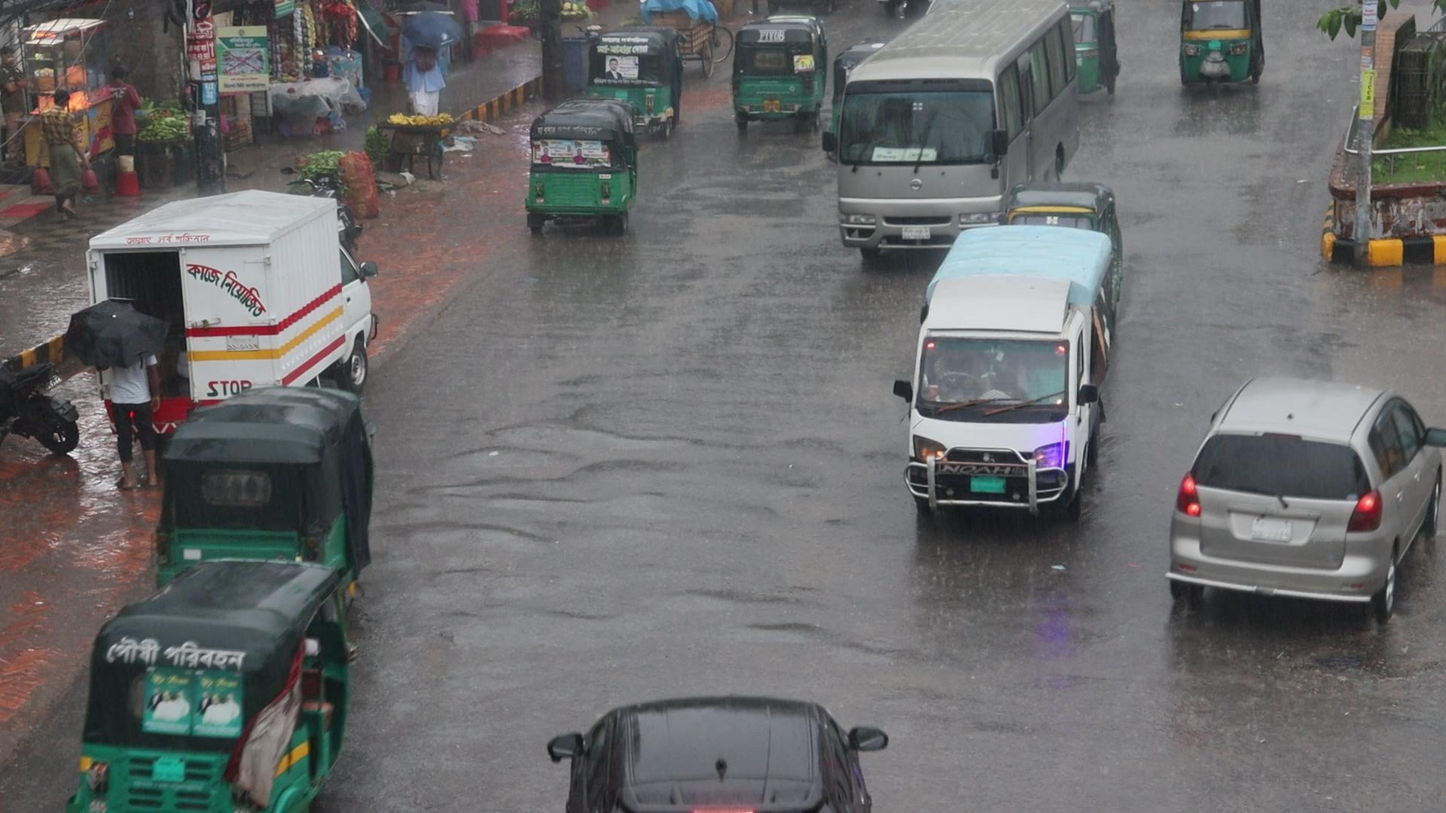Bus: (828, 0, 1080, 266)
Car: (1165, 364, 1446, 634), (900, 217, 1121, 522)
